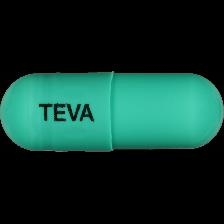66116-529: (0, 0, 224, 224)
